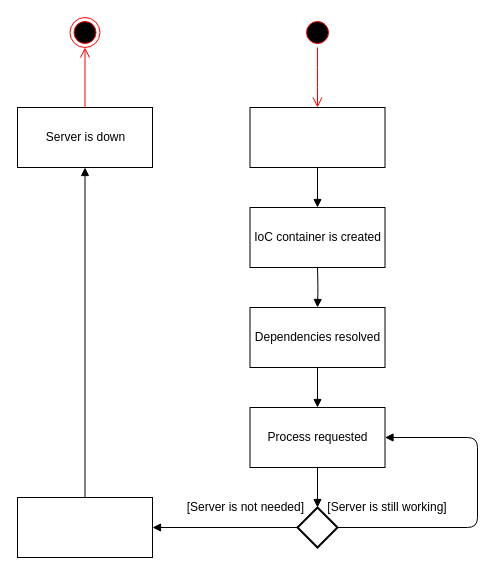
Some shapes in this 503 by 575 pixel diagram are drawn without their labels. Each missing label, with the box of its shape:
Database and server are up: (249, 106, 385, 168)
Instances destroyed: (16, 496, 152, 558)
